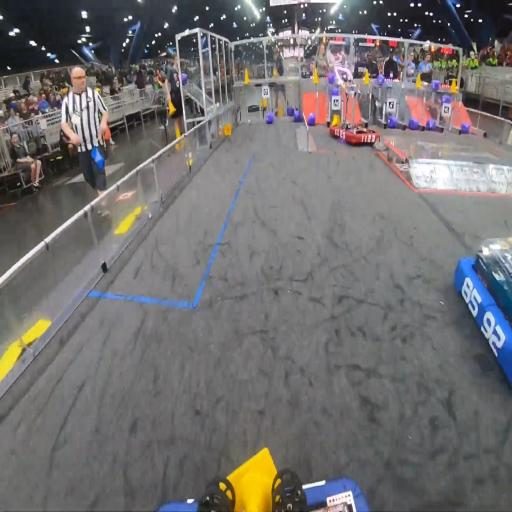robot: (452, 234, 512, 392), (329, 75, 379, 148)
